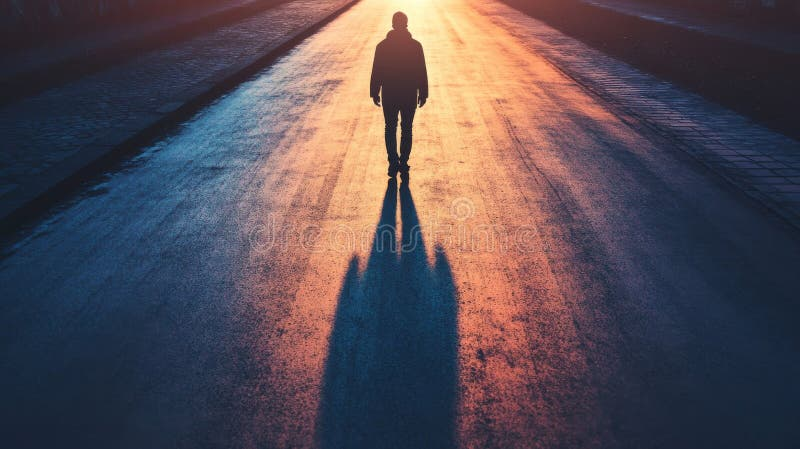Person: (359, 9, 434, 186)
